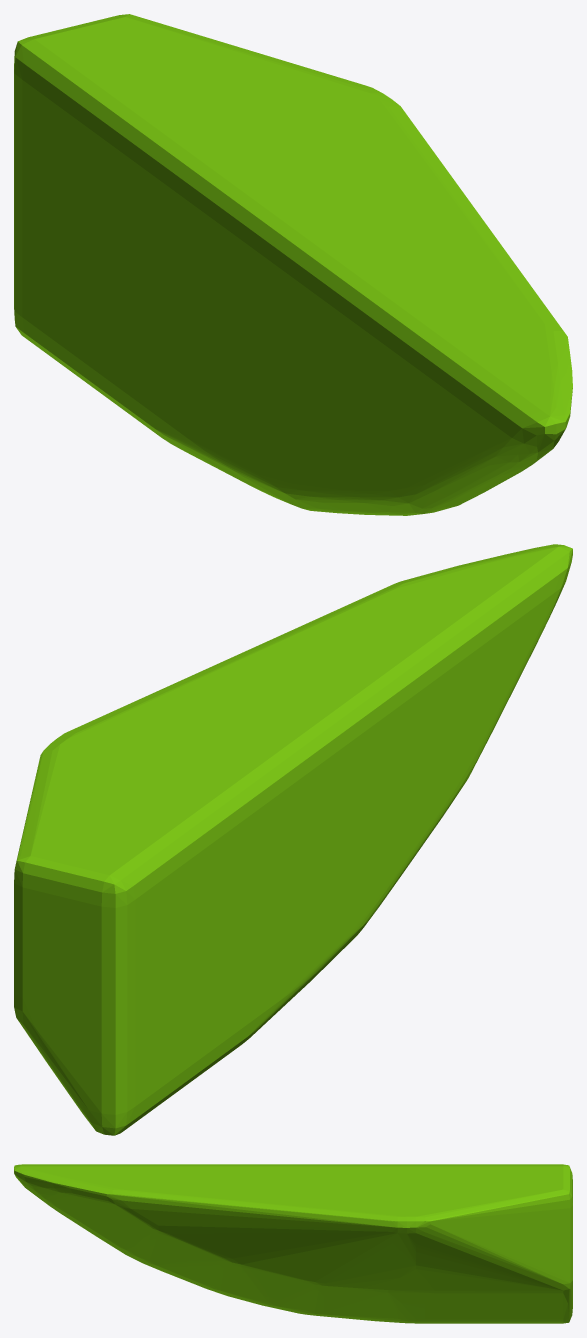
File: right_shoulder_roll_link_part_4.obj
3 views of the same model, one above another, from view 1: azimuth 30°, elevation 25°; view 2: azimuth 150°, elevation 25°; view 3: azimuth 270°, elevation 25° (orthographic). The views are drawn at different scales.
Size of the model in its own units: 0.00848 by 0.0103 by 0.0334.
